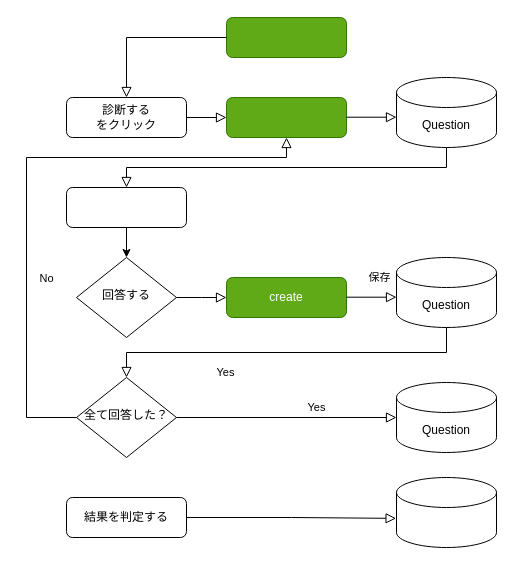
Some shapes in this 514 by 565 pixel diagram are drawn without their labels. Here are the shapes that lost their labels. From the top down, the centre of each, then its label:
(x=286, y=37): index
(x=286, y=117): New
(x=126, y=207): 回答フォームを表示
(x=446, y=512): Answer
